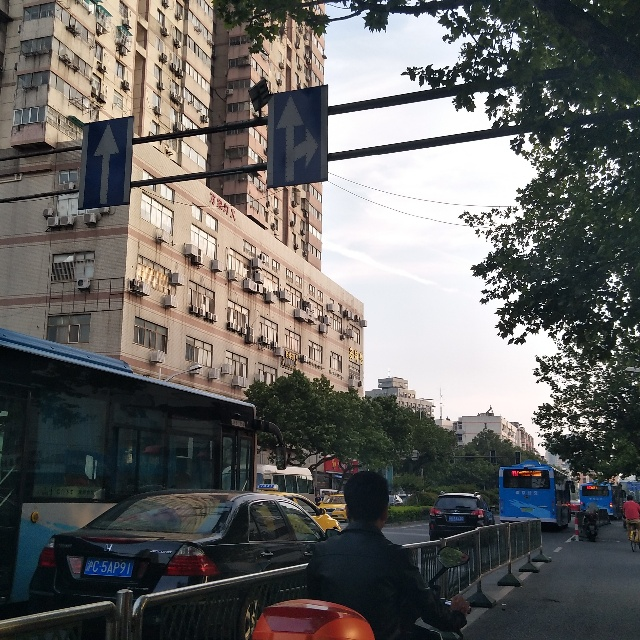straight: (85, 121, 126, 206)
